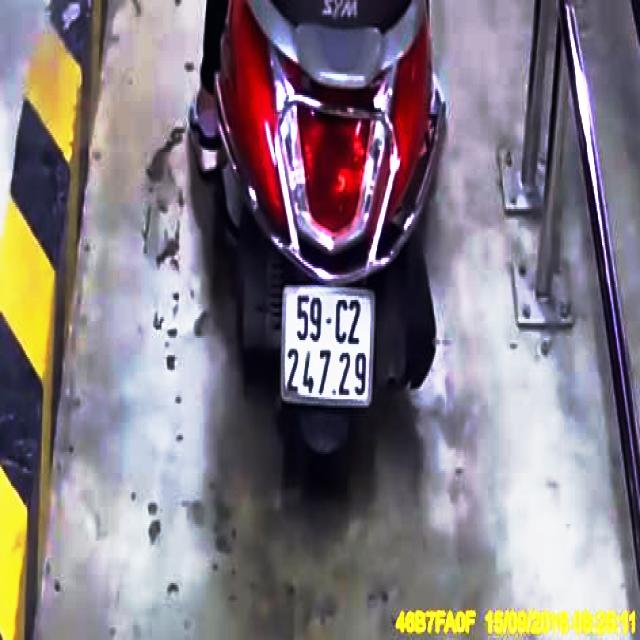license_plate: (283, 286, 374, 403)
